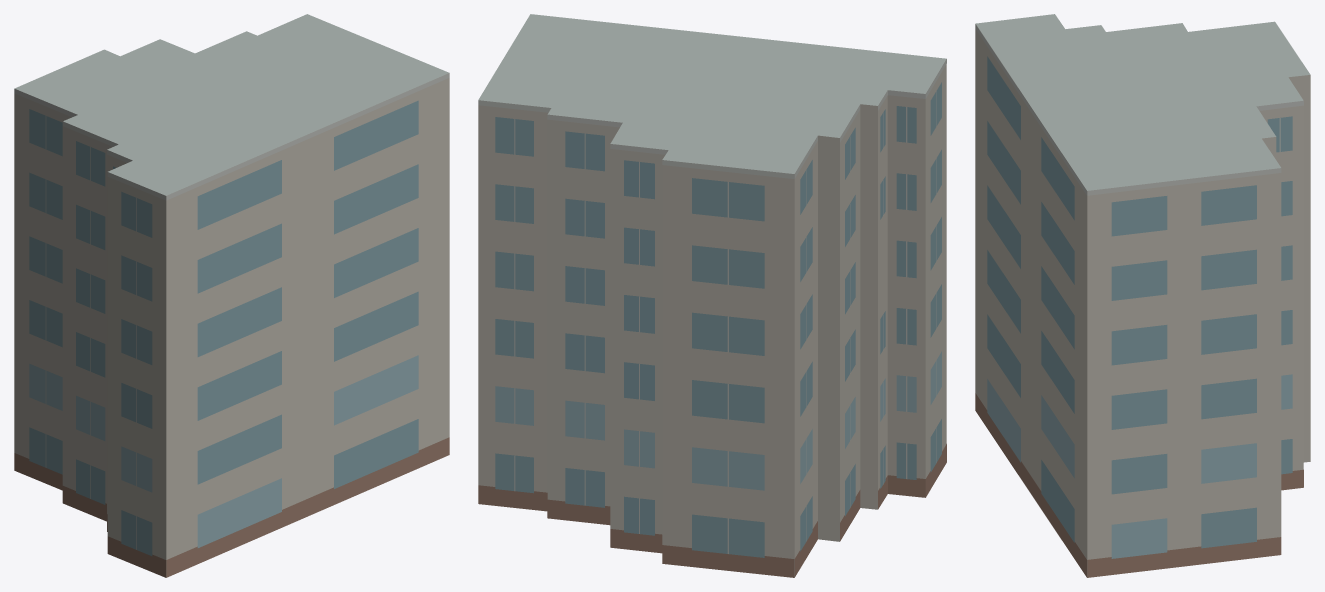
Rendered from survey-upis-32525006.glb.
3 views of the same model, side by side, from view 1: azimuth 30°, elevation 25°; view 2: azimuth 150°, elevation 25°; view 3: azimuth 270°, elevation 25° (orthographic). The views are drawn at different scales.
Visible parts, largest first — view 1: survey-upis-32525006.tmp; view 2: survey-upis-32525006.tmp; view 3: survey-upis-32525006.tmp.
Boxes of the visible parts, left/top/right/bottom form: survey-upis-32525006.tmp: left=14, top=14, right=449, bottom=577; survey-upis-32525006.tmp: left=478, top=14, right=946, bottom=577; survey-upis-32525006.tmp: left=975, top=14, right=1310, bottom=577.
Bounding box in the file's own units: 19.07 × 19.44 × 15.28.
